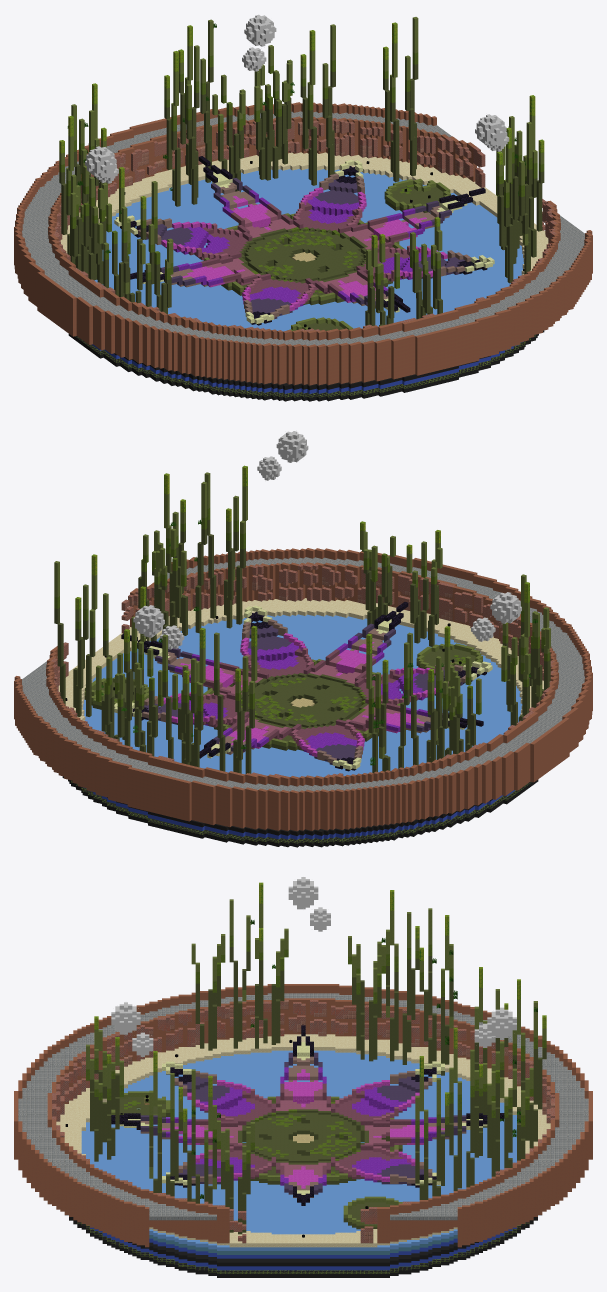
The model's file is minecraft.obj.
3 views of the same model, one above another, from view 1: azimuth 30°, elevation 25°; view 2: azimuth 150°, elevation 25°; view 3: azimuth 270°, elevation 25° (orthographic).
Size of the model in its own units: 126 by 57 by 137.
